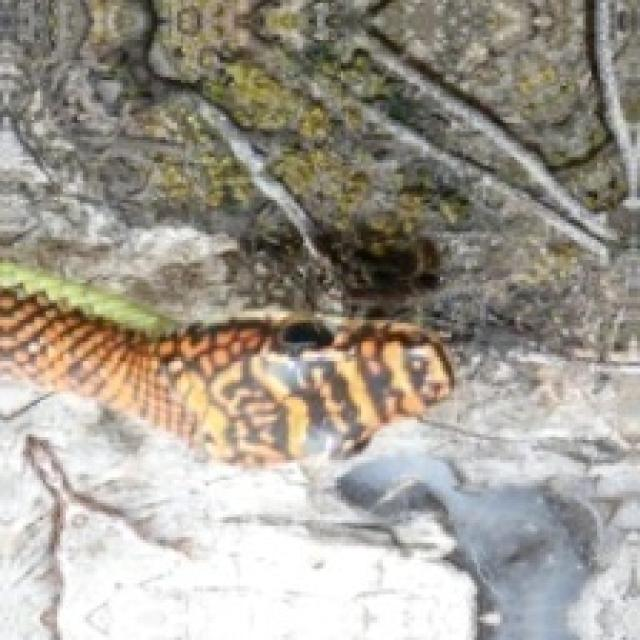paradise tree snake: (0, 263, 451, 460)
